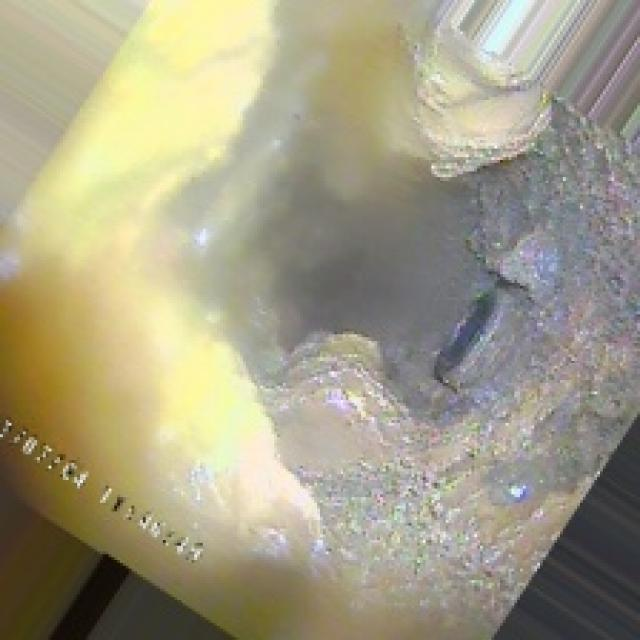encrustation: (297, 140, 603, 509)
ferrule: (426, 286, 523, 386)
